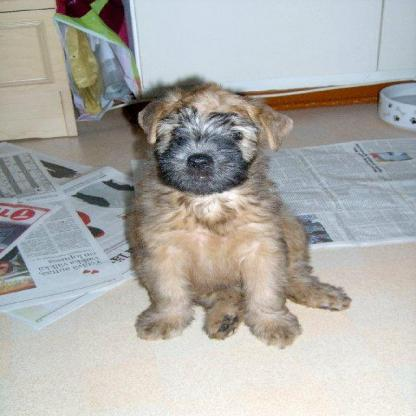Brabancon_griffon: (125, 82, 351, 350)
